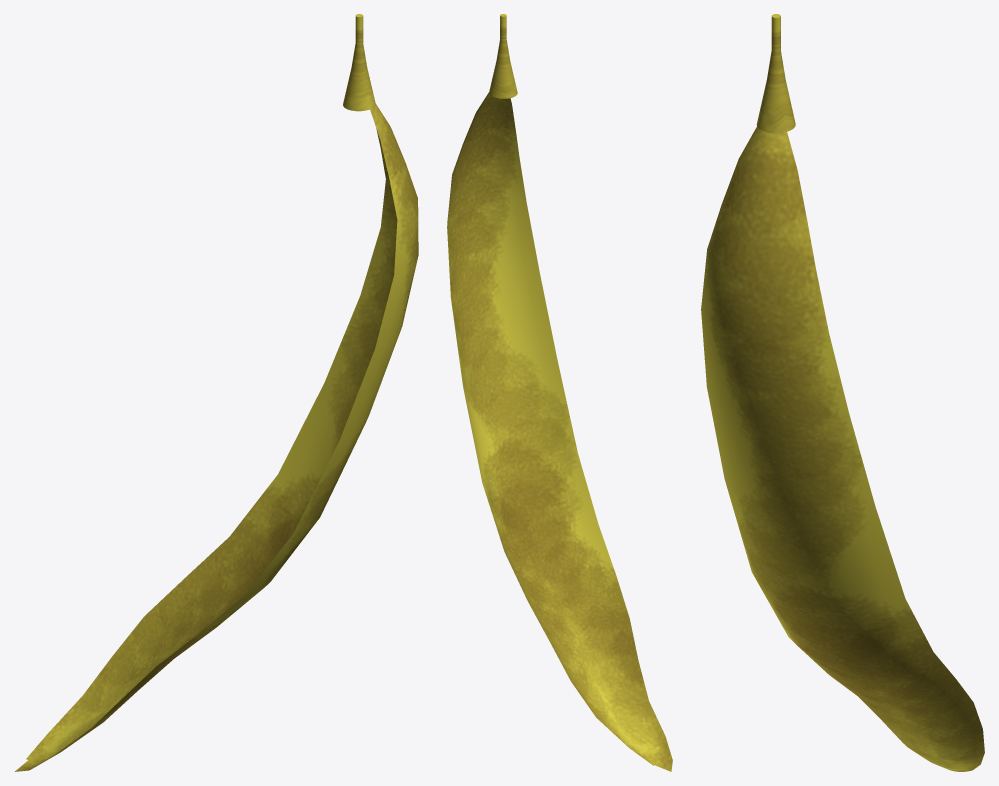
The model's file is bossBananPeelBuck.obj.
The picture shows the model from 3 angles, left to right: view 1: azimuth 30°, elevation 25°; view 2: azimuth 150°, elevation 25°; view 3: azimuth 270°, elevation 25°; orthographic projection. The views are drawn at different scales.
Parts seen in each view (by area): view 1: 球.003; view 2: 球.003; view 3: 球.003.
Boxes of the visible parts, <box> form: 球.003: <box>15,14,418,771</box>; 球.003: <box>447,14,672,771</box>; 球.003: <box>701,14,984,771</box>.
Bounding box in the file's own units: 0.4832 × 1.07 × 0.3015.
Materials: 1 (1 with a texture image).
